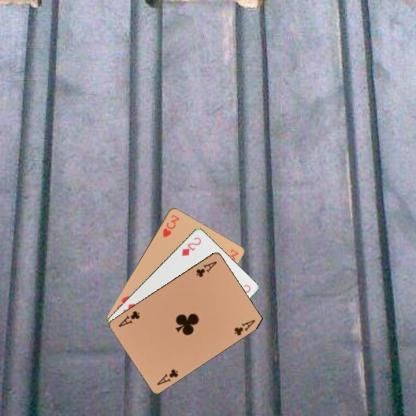2d: (179, 234, 202, 257)
3h: (160, 211, 180, 238)
Ac: (154, 366, 180, 386), (193, 258, 218, 278)
